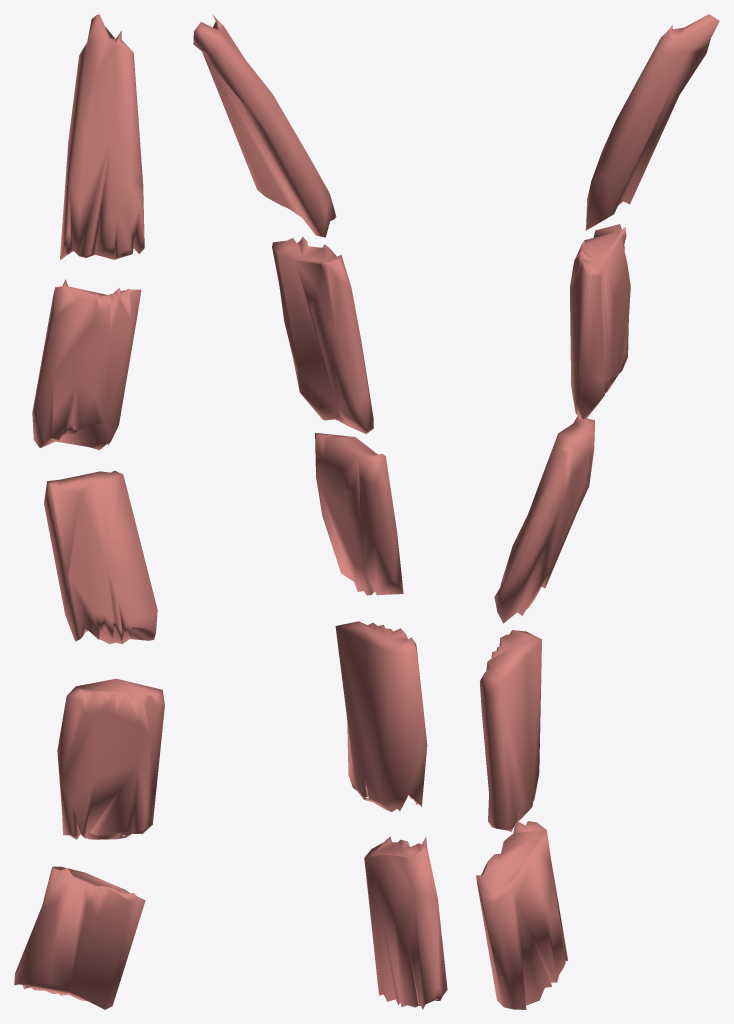
3 views of the same model, side by side, from view 1: azimuth 30°, elevation 25°; view 2: azimuth 150°, elevation 25°; view 3: azimuth 270°, elevation 25° (orthographic). The views are drawn at different scales.
Parts seen in each view (by area): view 1: ZA_964b905279234ffb; view 2: ZA_964b905279234ffb; view 3: ZA_964b905279234ffb.
Part boxes in pixels (<box>): ZA_964b905279234ffb: <box>14,14,164,1009</box>; ZA_964b905279234ffb: <box>193,15,447,1009</box>; ZA_964b905279234ffb: <box>476,14,719,1009</box>.
Size of the model in its own units: 0.0285 by 0.1502 by 0.0319.
